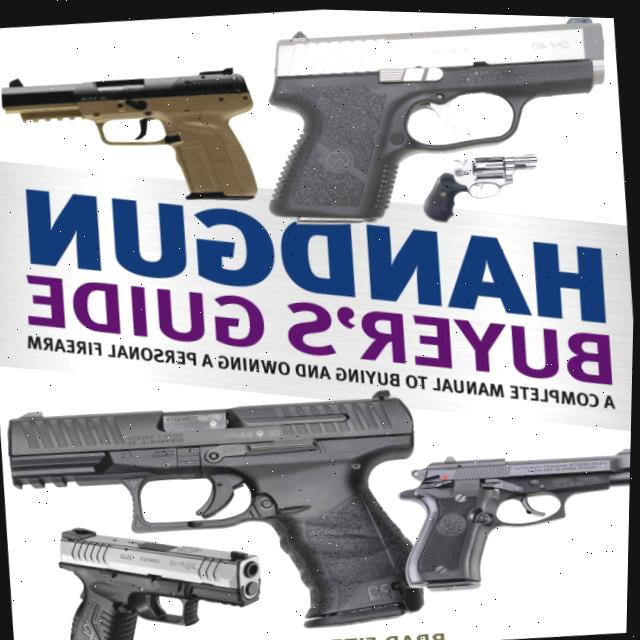pistol: (3, 375, 429, 640), (252, 6, 618, 232), (0, 57, 260, 215), (391, 436, 633, 590), (54, 510, 267, 640), (419, 143, 546, 221)
